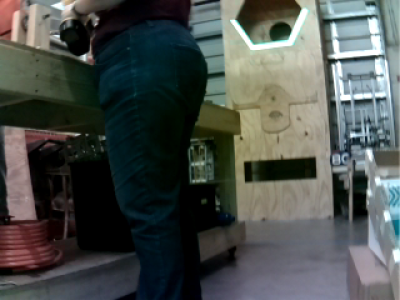target: (229, 8, 310, 51)
